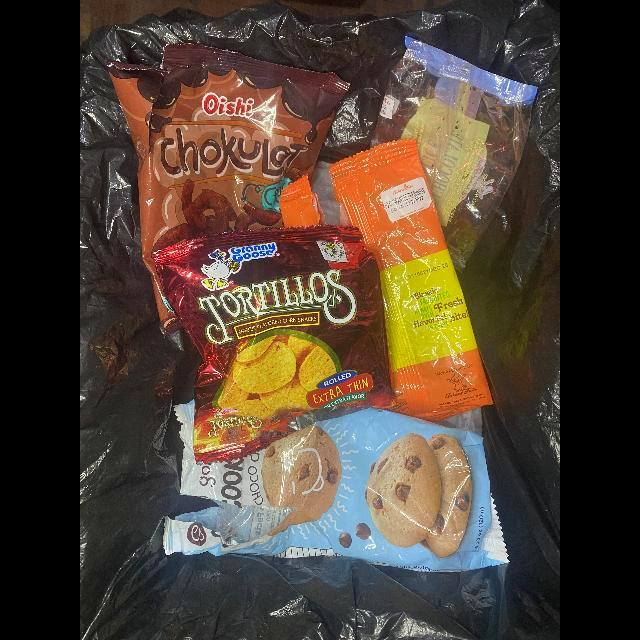food_wrapper: (110, 42, 349, 340), (278, 137, 493, 422), (163, 402, 509, 572), (155, 224, 395, 465), (370, 38, 535, 273)
